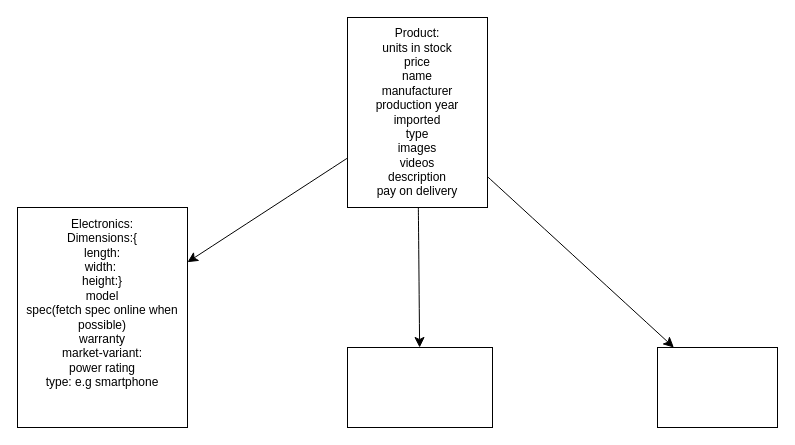
Some shapes in this 795 by 445 pixel diagram are drawn without their labels. Here are the shapes that lost their labels. From the top down, the centre of each, then its label:
At [419,387]: "fashion sex type: shoe etc size material".
At [717,387]: "cosmetics skin type ingridients application direction".
